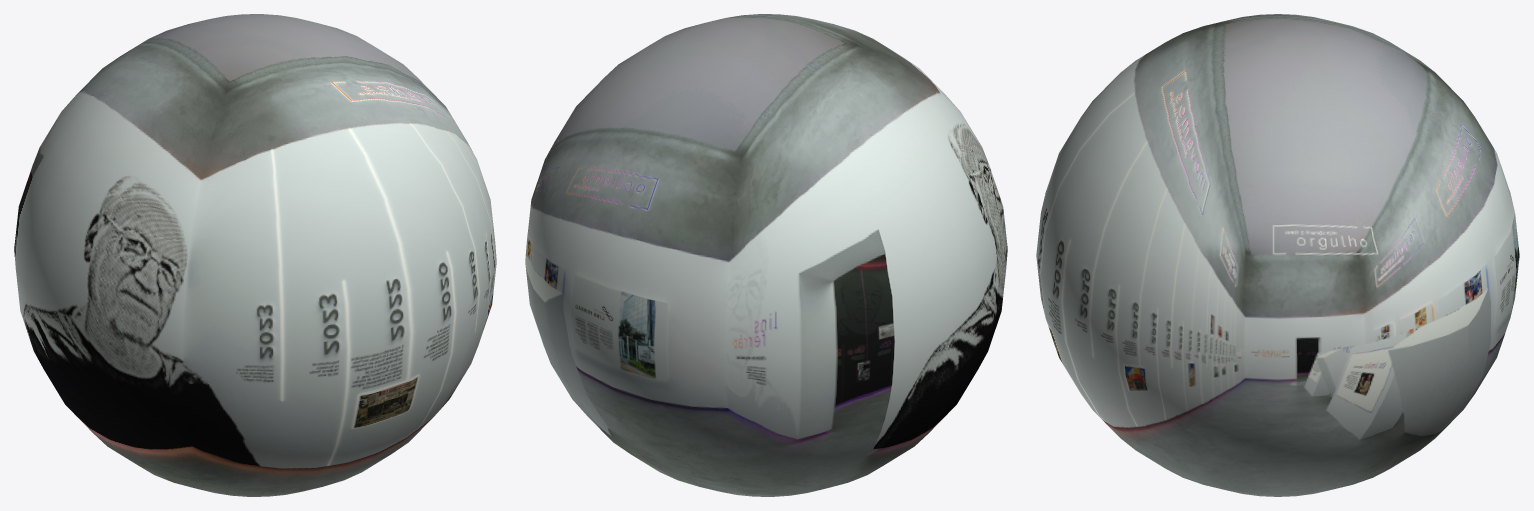
The model's file is camera_05.fbx.
3 renders of one model, left to right at view 1: azimuth 30°, elevation 25°; view 2: azimuth 150°, elevation 25°; view 3: azimuth 270°, elevation 25°, orthographic.
Parts seen in each view (by area): view 1: Sphere; view 2: Sphere; view 3: Sphere.
Part boxes in pixels (<box>): Sphere: <box>14,14,496,496</box>; Sphere: <box>525,14,1007,496</box>; Sphere: <box>1036,14,1519,496</box>.
Bounding box in the file's own units: 2196 × 2196 × 2196.
